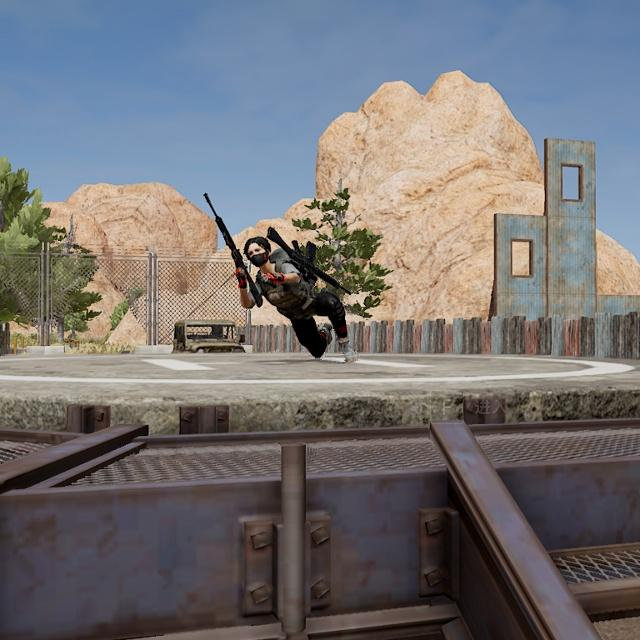head: (242, 235, 273, 267)
people: (235, 234, 361, 365)
